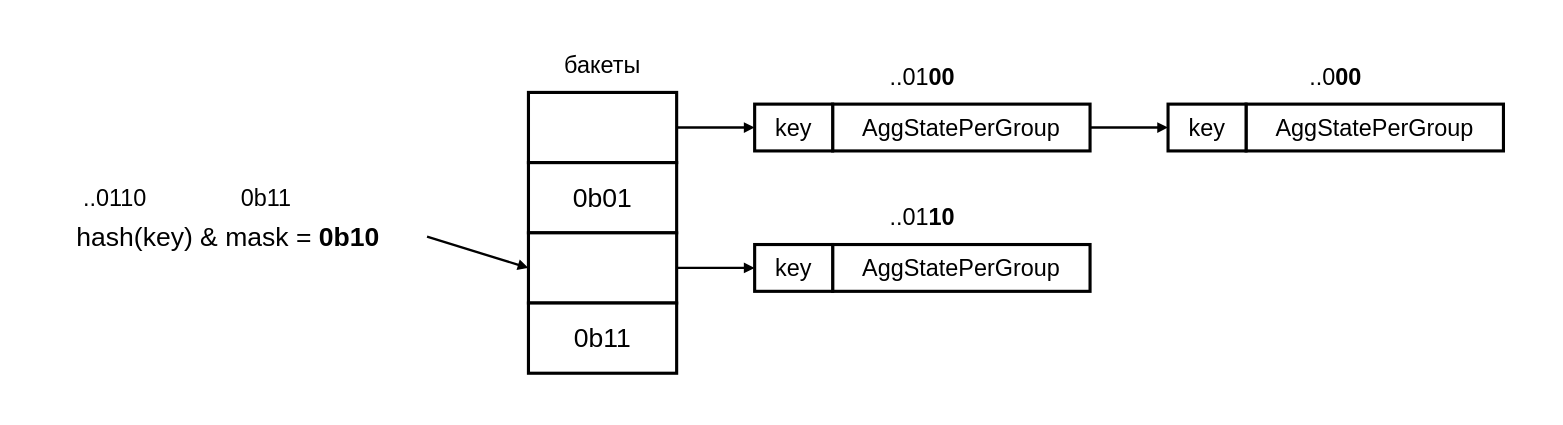
The diagram is 1563 pixels wide and 425 high, and some of its shapes have lost their labels. Here are the shapes that lost their labels. From the top down, the centre of each, then its label:
pixel 602 127: 0b00
pixel 602 267: 0b10
